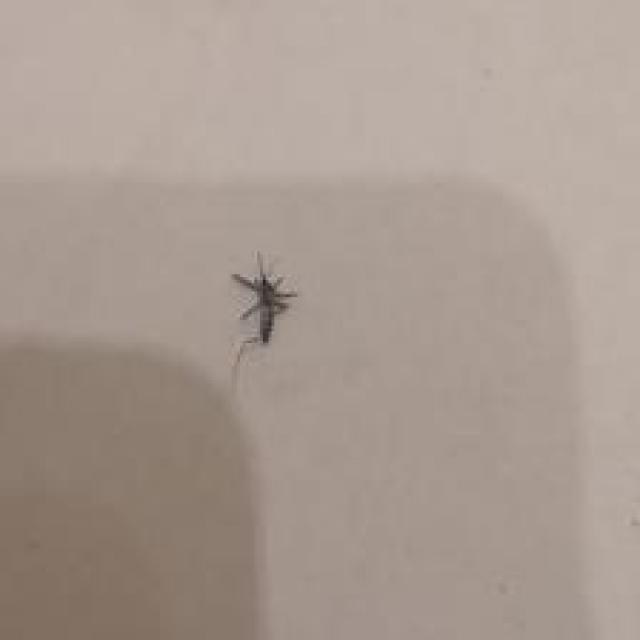Aedes albopictus: (230, 248, 299, 346)
